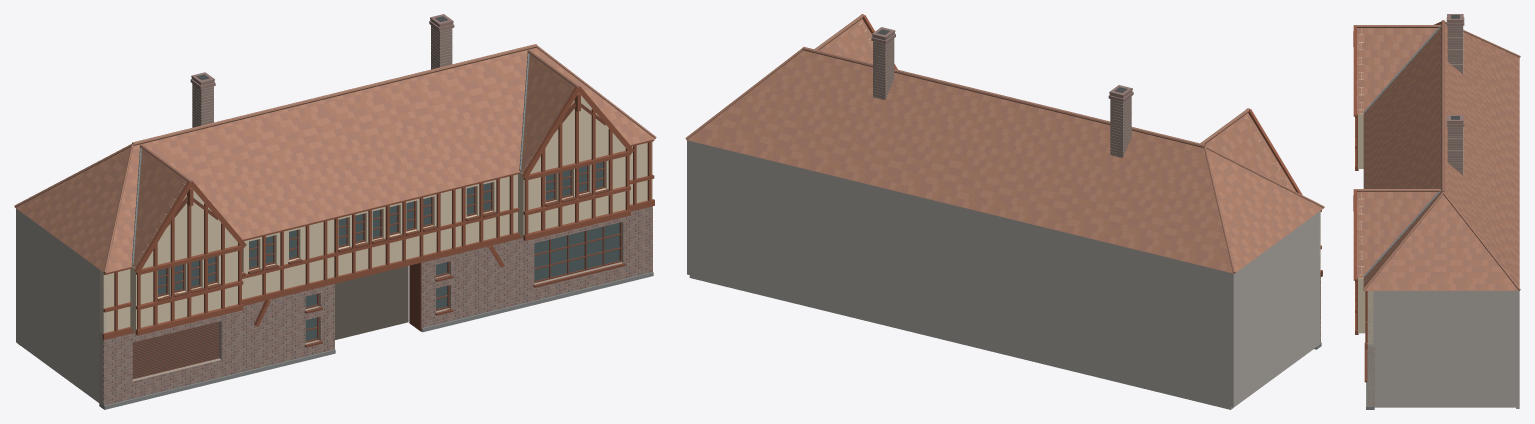
The model's file is huangpu-caldbeck-macgregor-building-raw.glb.
The picture shows the model from 3 angles, left to right: view 1: azimuth 30°, elevation 25°; view 2: azimuth 150°, elevation 25°; view 3: azimuth 270°, elevation 25°; orthographic projection. The views are drawn at different scales.
Parts seen in each view (by area): view 1: 正广和公司福州路历史街翼; view 2: 正广和公司福州路历史街翼; view 3: 正广和公司福州路历史街翼.
Boxes of the visible parts, x1,y1,x2,y2 form: 正广和公司福州路历史街翼: [14, 14, 656, 409]; 正广和公司福州路历史街翼: [685, 14, 1324, 409]; 正广和公司福州路历史街翼: [1353, 14, 1520, 409].
Size of the model in its own units: 30.77 by 13.74 by 9.3.
